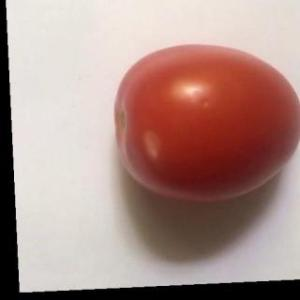tomato: (100, 39, 300, 219)
